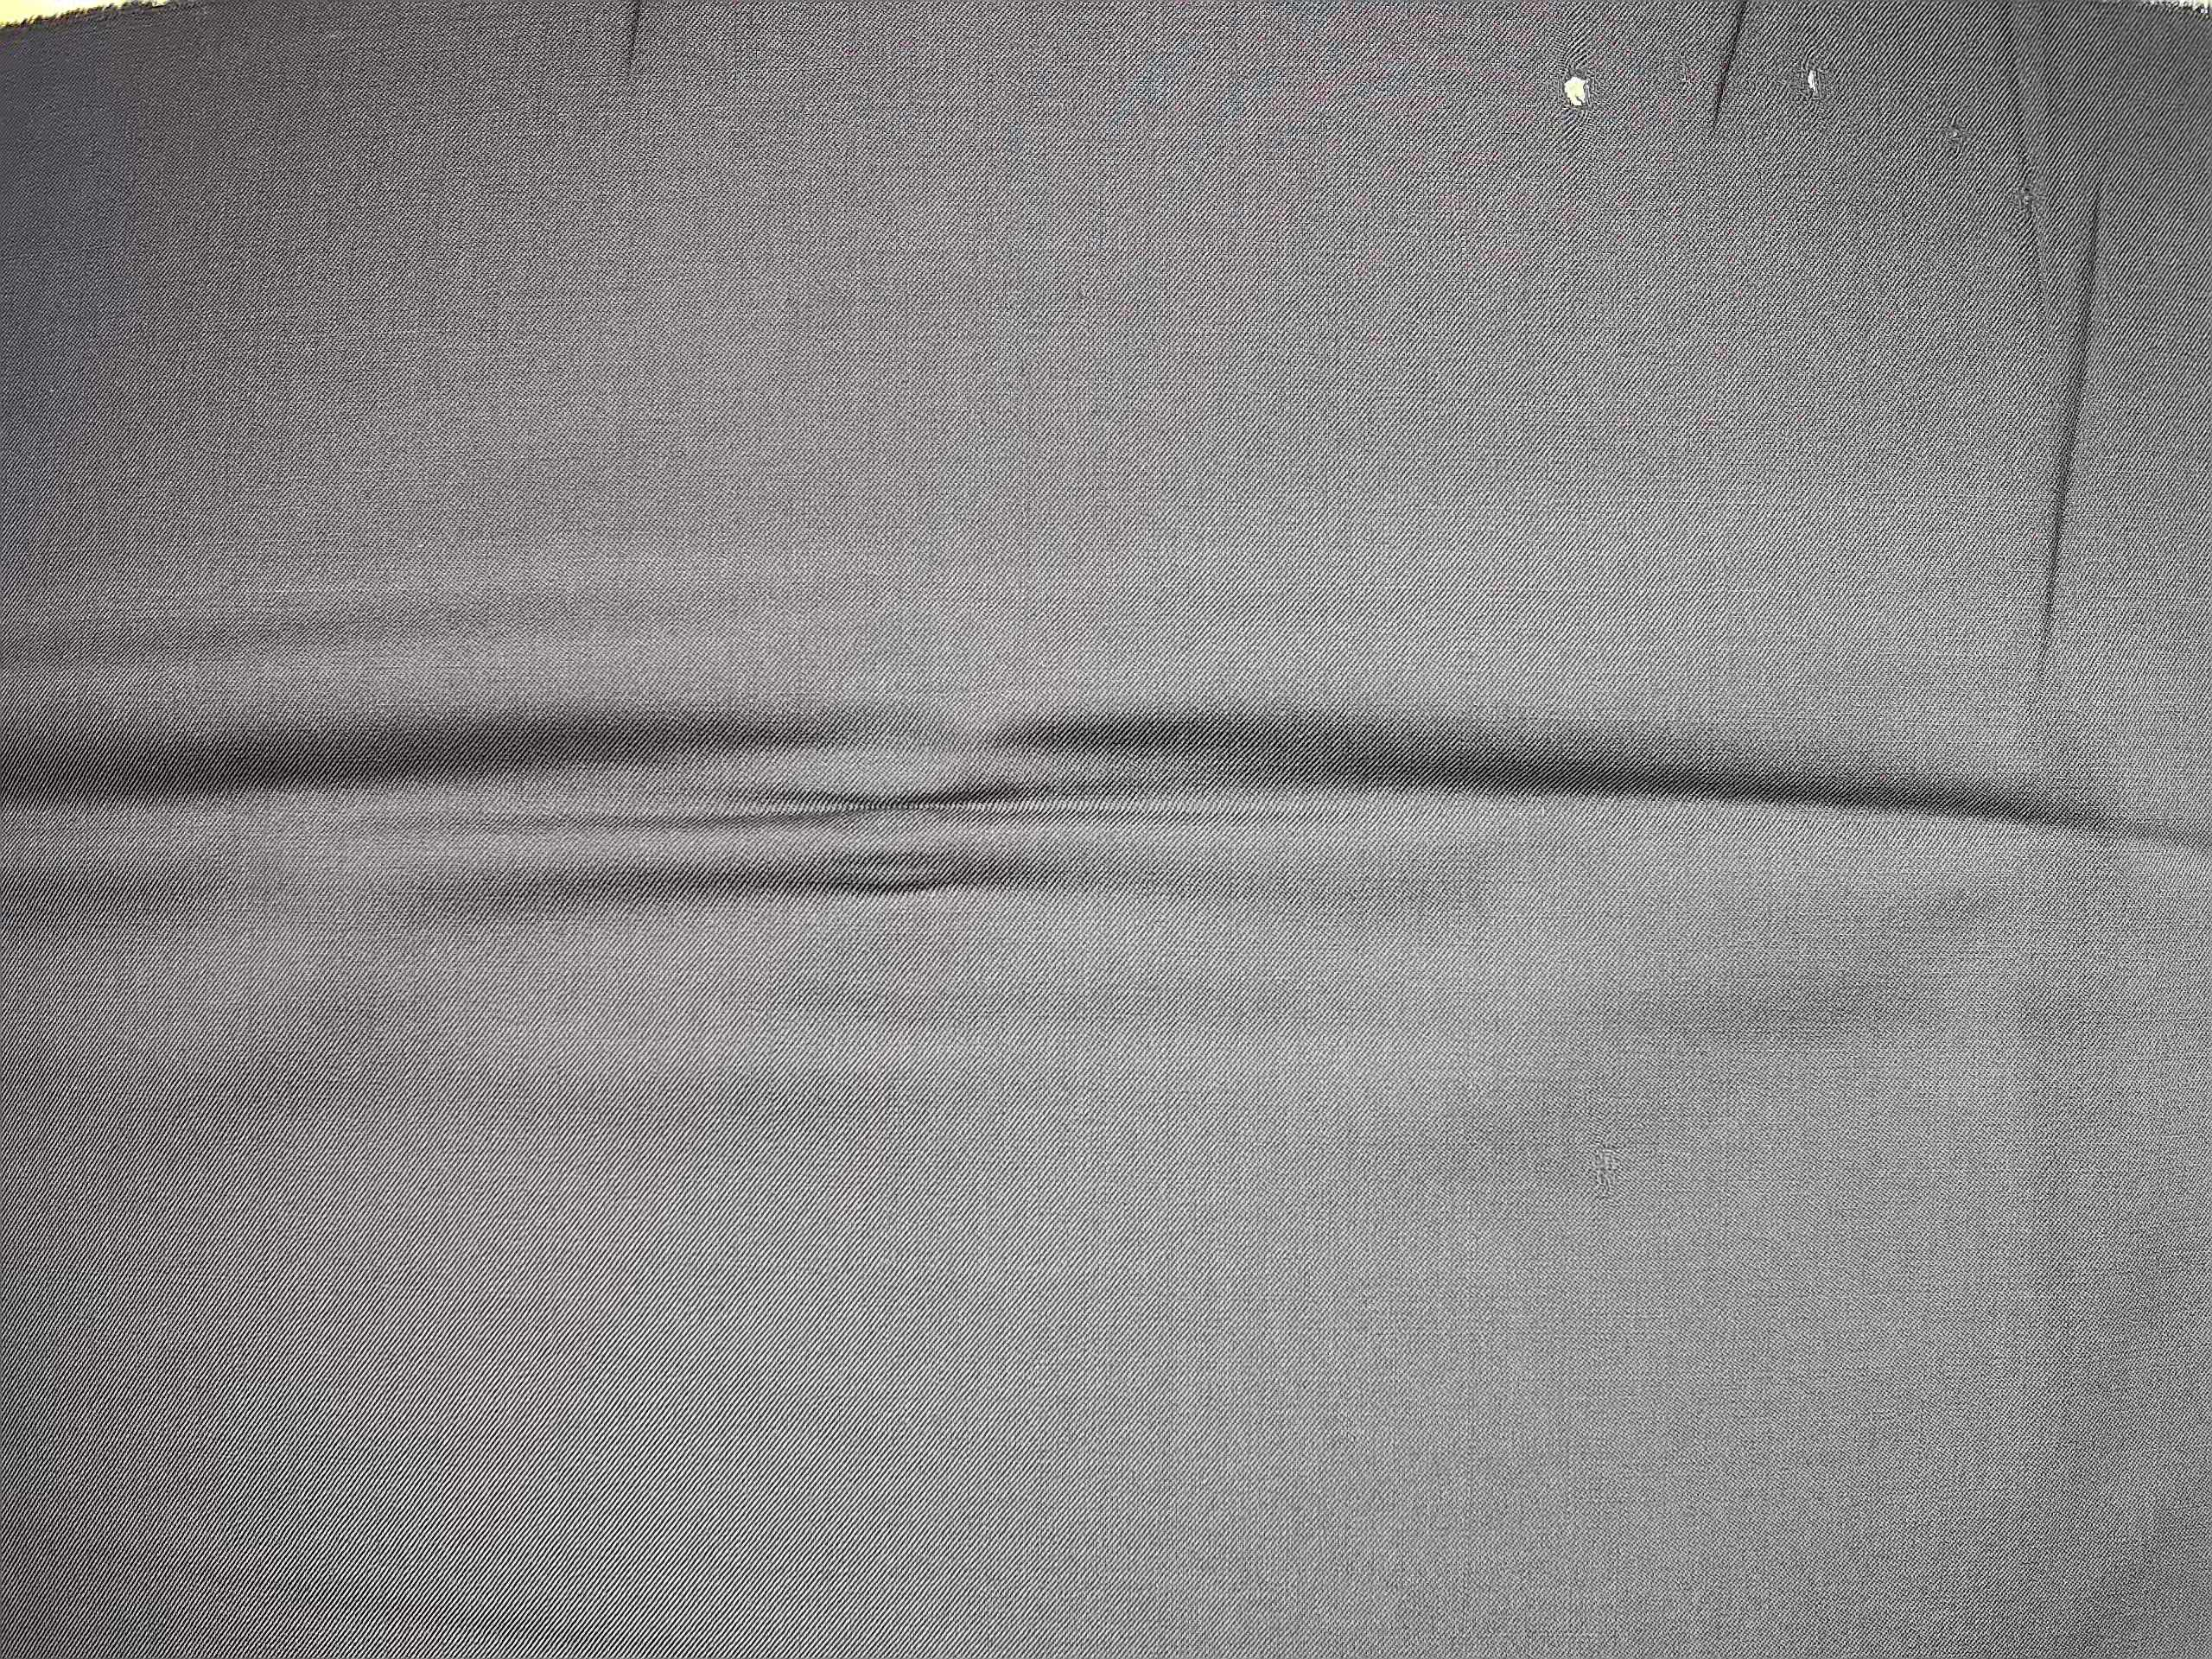brushed-hole: (1541, 47, 1615, 125)
